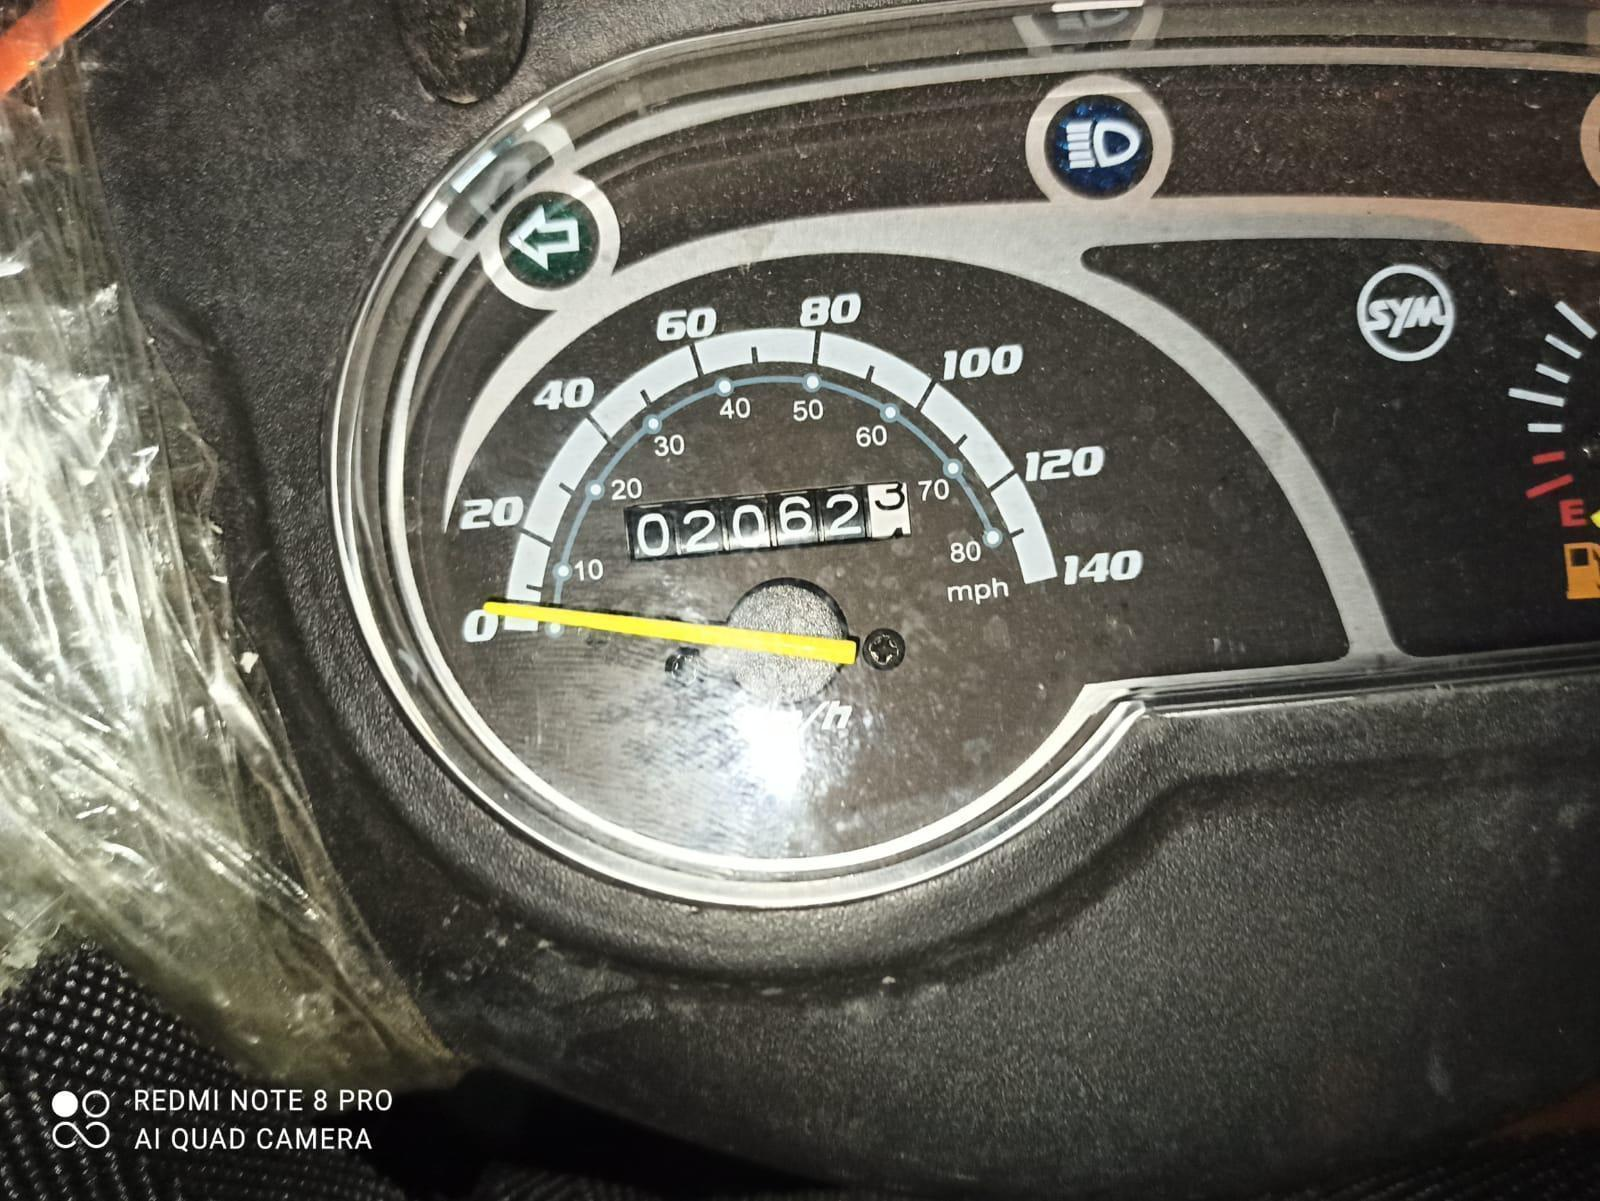0: (732, 502, 770, 553), (633, 512, 671, 558), (627, 476, 645, 498)
2: (680, 506, 721, 555), (824, 495, 861, 537), (609, 477, 627, 500)
3: (873, 479, 907, 512)
6: (779, 495, 816, 536)
odometer: (615, 479, 919, 569)
